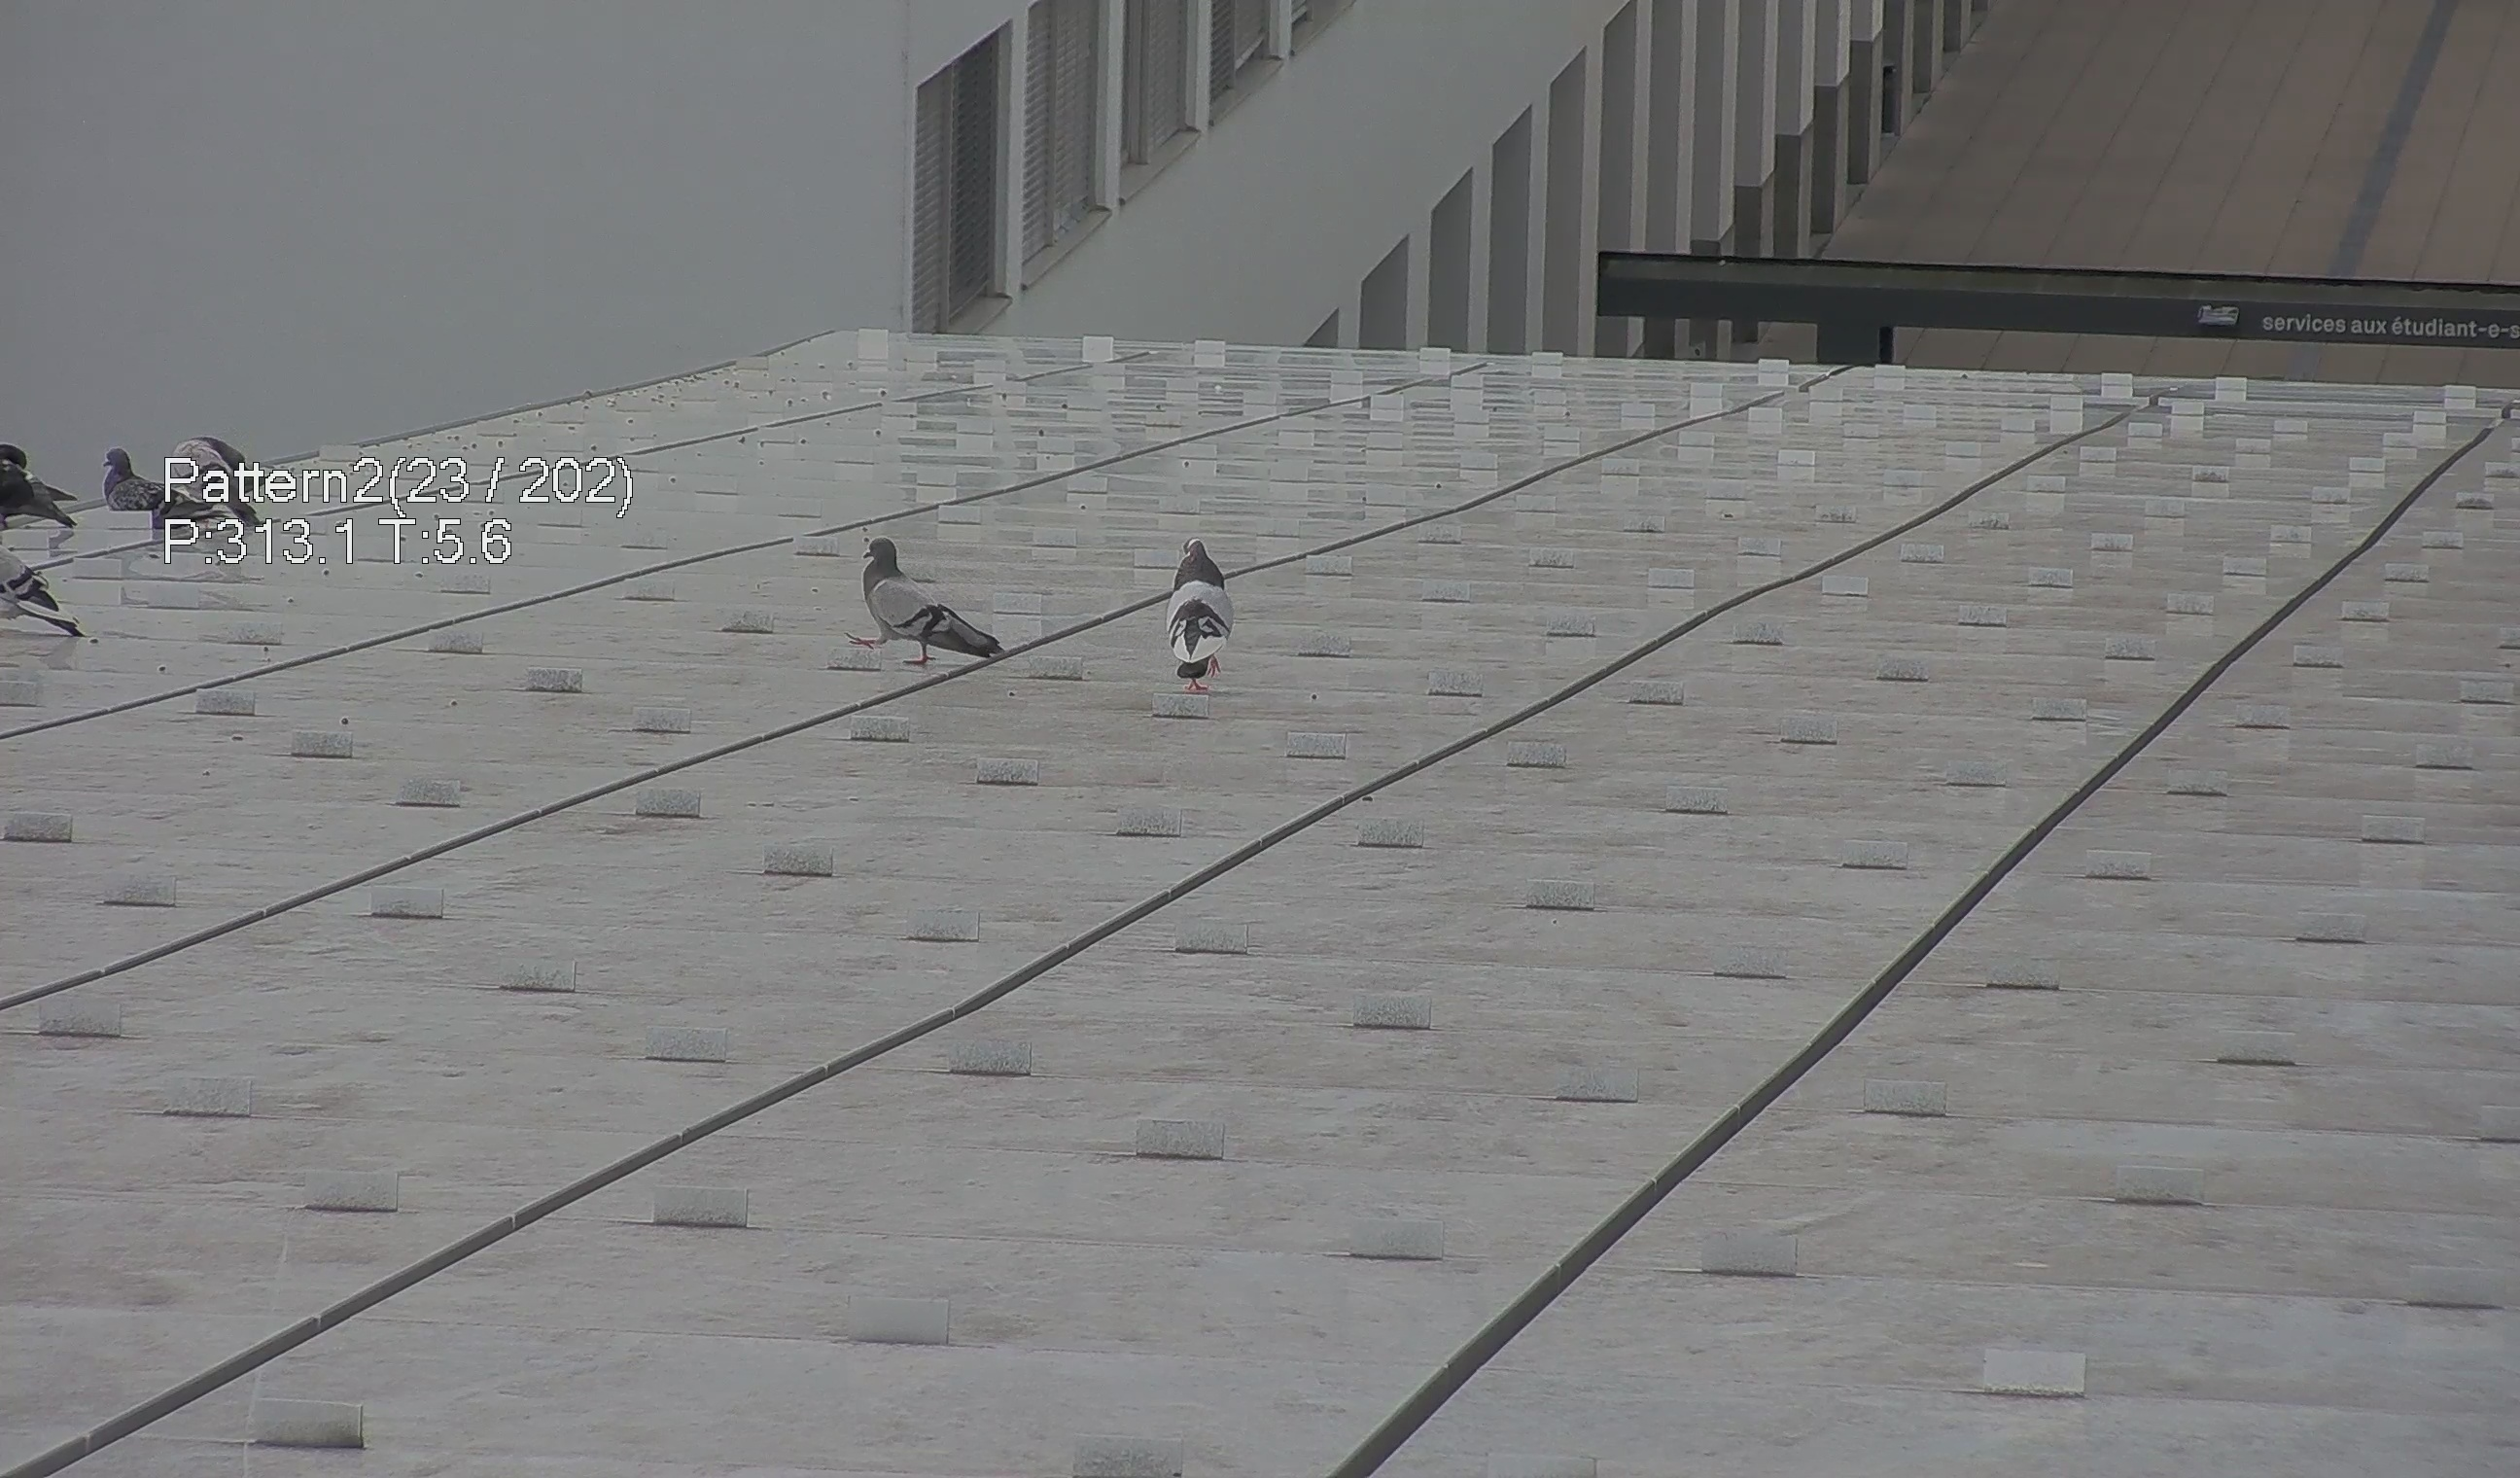Pigeon: (849, 528, 1002, 663), (79, 440, 222, 545), (1155, 519, 1238, 688), (2, 540, 104, 632), (2, 433, 79, 528)
